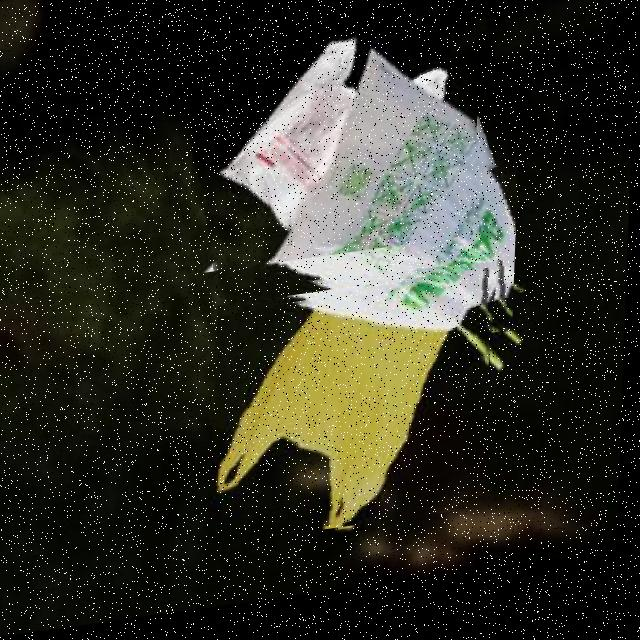plasticcover: (195, 38, 524, 384), (188, 3, 482, 281), (213, 281, 500, 552)
